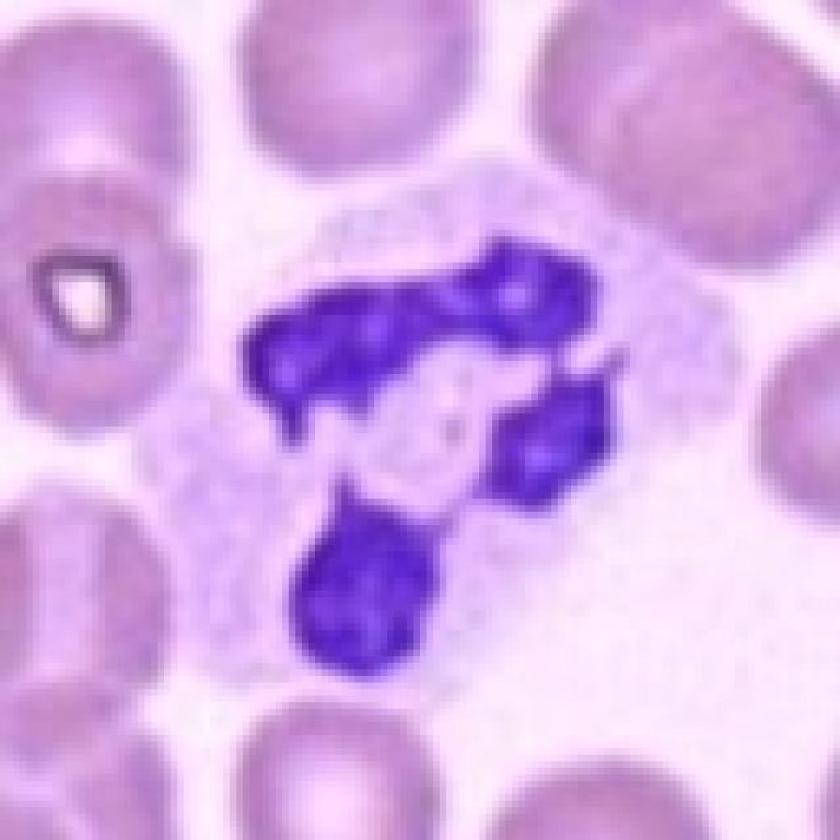neutrophil: (132, 164, 752, 726)
